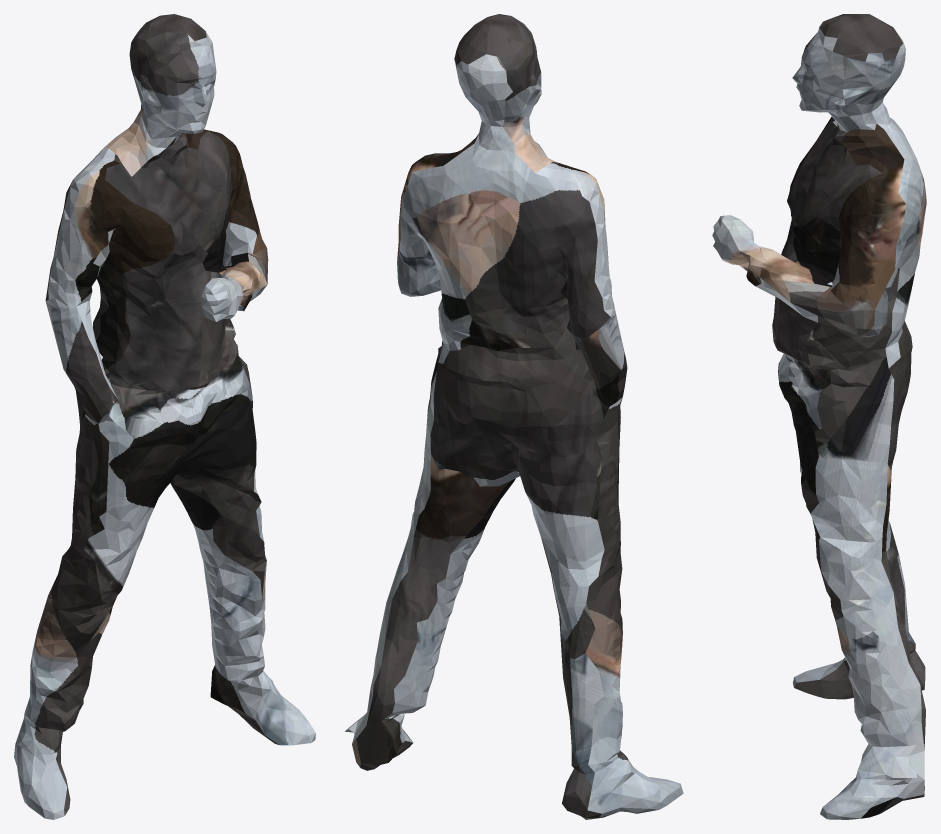
The model's file is man_7.glb.
3 views of the same model, side by side, from view 1: azimuth 30°, elevation 25°; view 2: azimuth 150°, elevation 25°; view 3: azimuth 270°, elevation 25° (orthographic).
Visible parts, largest first — view 1: man_7; view 2: man_7; view 3: man_7.
Part boxes in pixels (box(x1,y1,x2,y2)): man_7: box(14, 14, 315, 819); man_7: box(345, 14, 683, 819); man_7: box(712, 14, 926, 819).
Size of the model in its own units: 0.6692 by 1.64 by 0.4314.
1 material, 1 textured.
